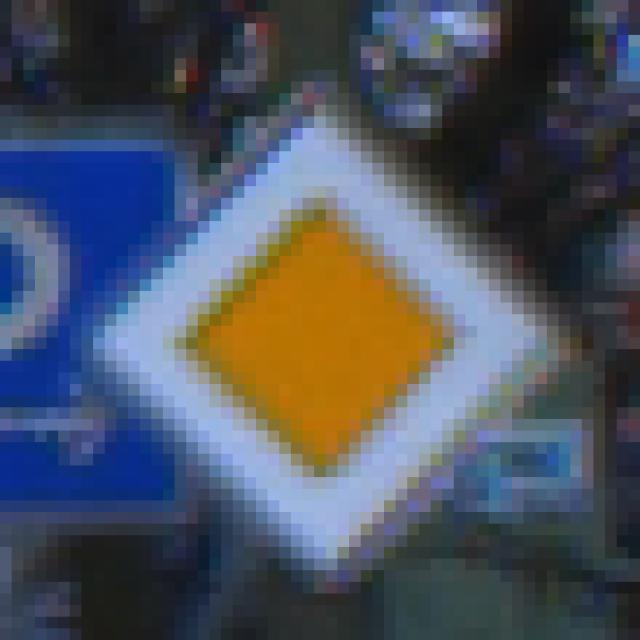Main Road: (71, 71, 583, 583)
